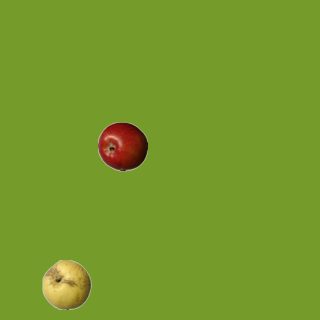Apple Braeburn: (97, 121, 147, 171)
Apple Golden 1: (41, 259, 91, 309)
